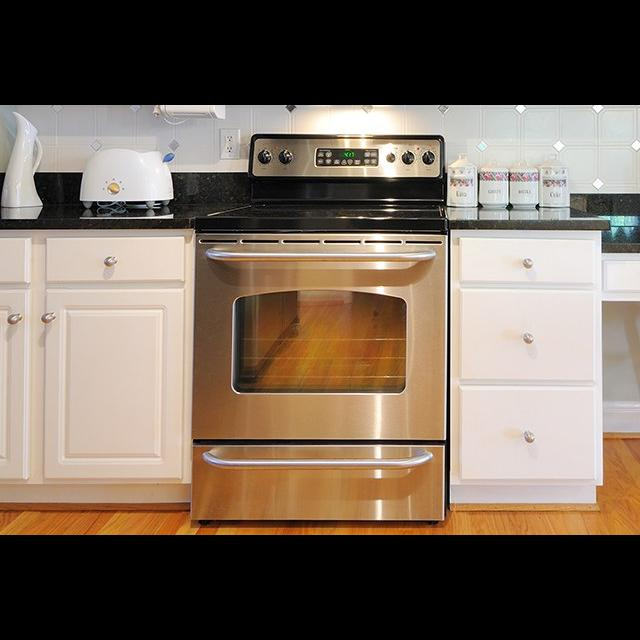Oven: (195, 226, 451, 444)
